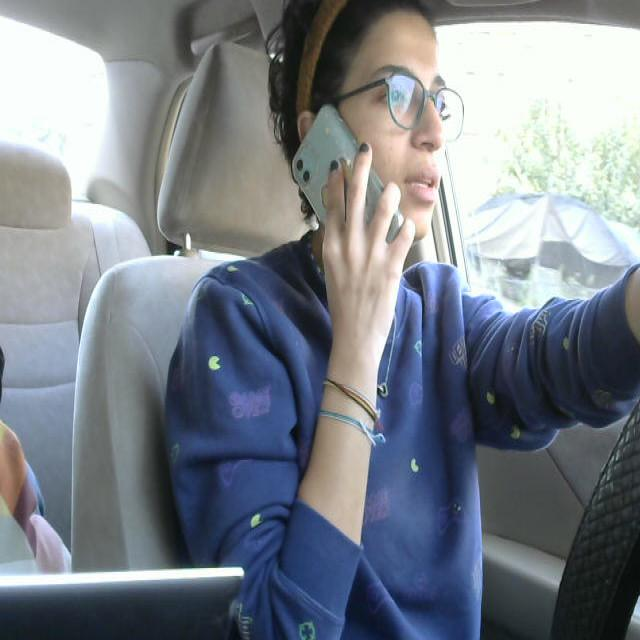mobile use: (288, 95, 416, 267)
